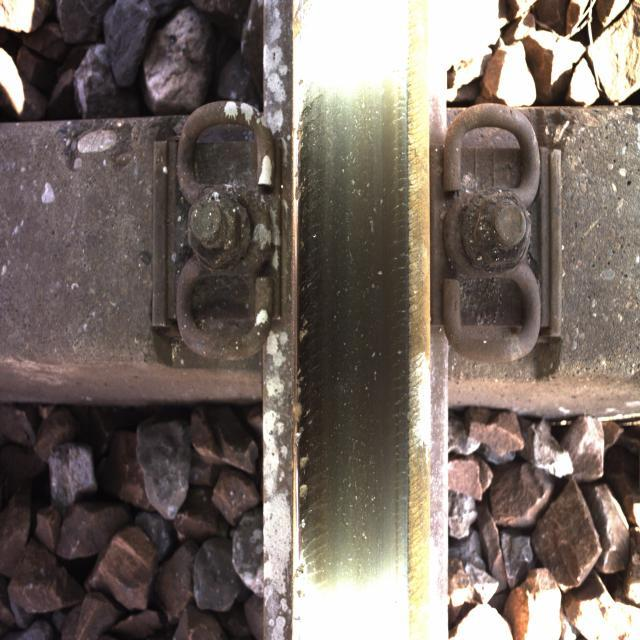break: (295, 18, 409, 632)
